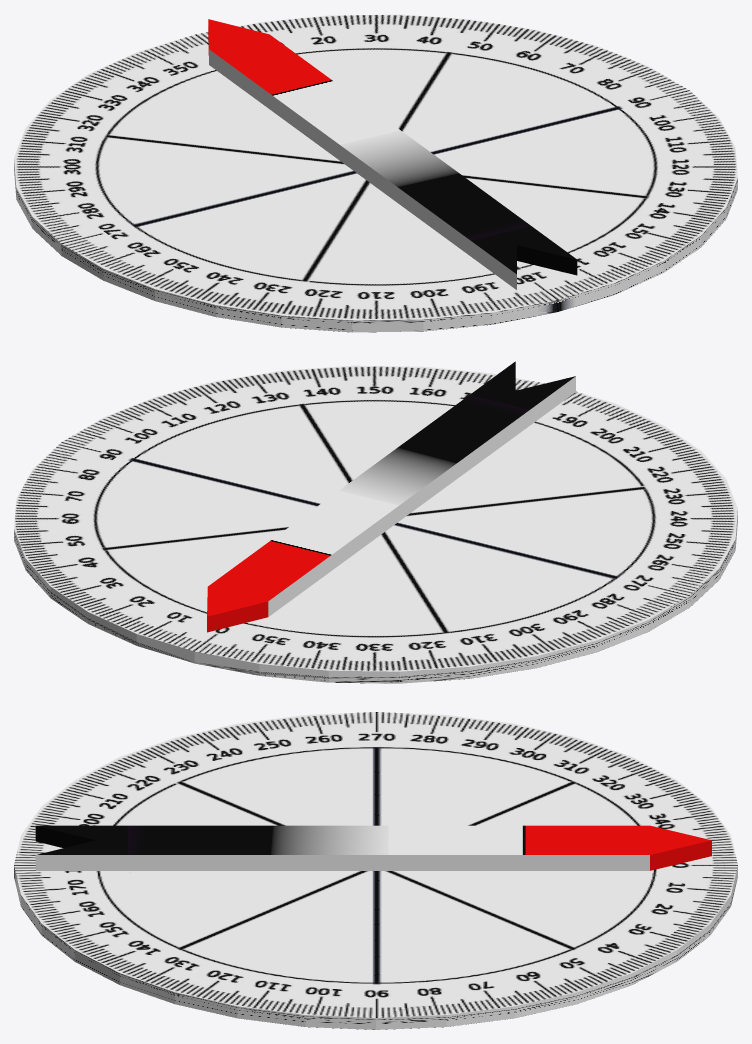
Rendered from Compass.fbx.
3 views of the same model, one above another, from view 1: azimuth 30°, elevation 25°; view 2: azimuth 150°, elevation 25°; view 3: azimuth 270°, elevation 25° (orthographic).
Parts seen in each view (by area): view 1: compas, strek; view 2: compas, strek; view 3: compas, strek.
Part boxes in pixels (box(x1,y1,x2,y2)): compas: box(14, 14, 737, 332); strek: box(208, 19, 577, 289); compas: box(14, 365, 737, 683); strek: box(207, 361, 575, 632); compas: box(14, 712, 737, 1029); strek: box(35, 825, 711, 870).
Bounding box in the file's own units: 236 × 13.29 × 236.
